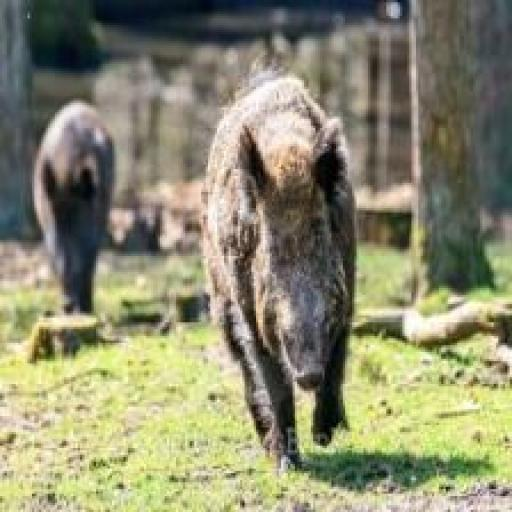Pig: (190, 48, 369, 478), (30, 87, 113, 326)
